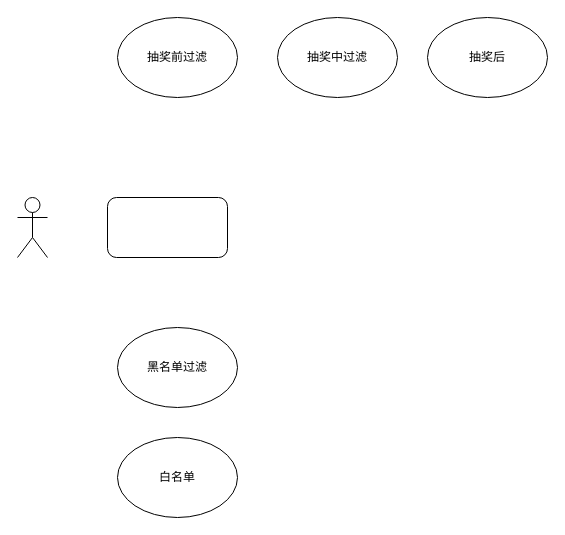
Image size: 565x535. Some labels were removed from this diagram. The shapes that lost their labels are listed below. From the top down, each one's centre as x and y in pixels, then its label:
pixel 32 227: Actor
pixel 167 227: 过滤规则
